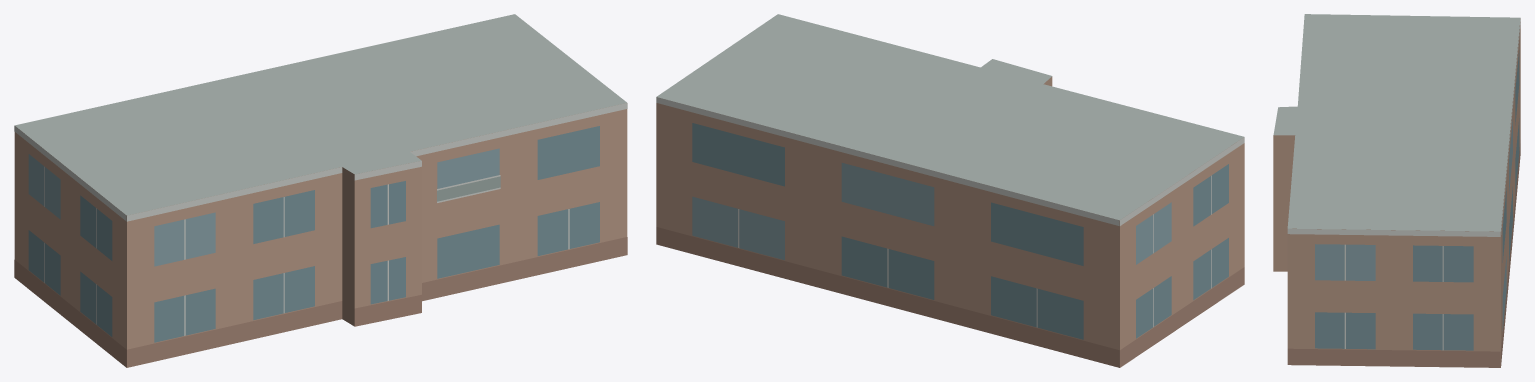
The model's file is survey-upis-32983930.glb.
3 renders of one model, left to right at view 1: azimuth 30°, elevation 25°; view 2: azimuth 150°, elevation 25°; view 3: azimuth 270°, elevation 25°, orthographic. The views are drawn at different scales.
Visible parts, largest first — view 1: survey-upis-32983930.tmp; view 2: survey-upis-32983930.tmp; view 3: survey-upis-32983930.tmp.
Part boxes in pixels (box(x1,y1,x2,y2)): survey-upis-32983930.tmp: box(14, 14, 627, 367); survey-upis-32983930.tmp: box(656, 14, 1244, 367); survey-upis-32983930.tmp: box(1273, 14, 1520, 367).
Size of the model in its own units: 20.88 by 6.1 by 10.03.
